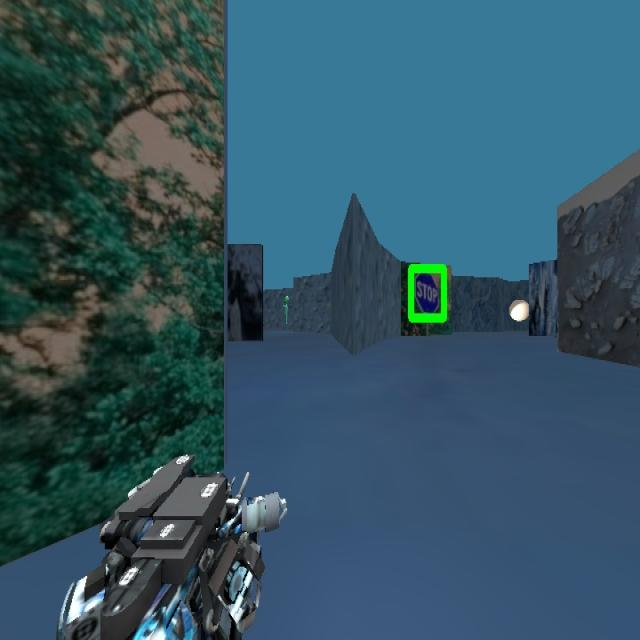Alien: (276, 290, 298, 340)
Circle: (508, 299, 529, 321)
Stop_Sign: (406, 261, 448, 324)
